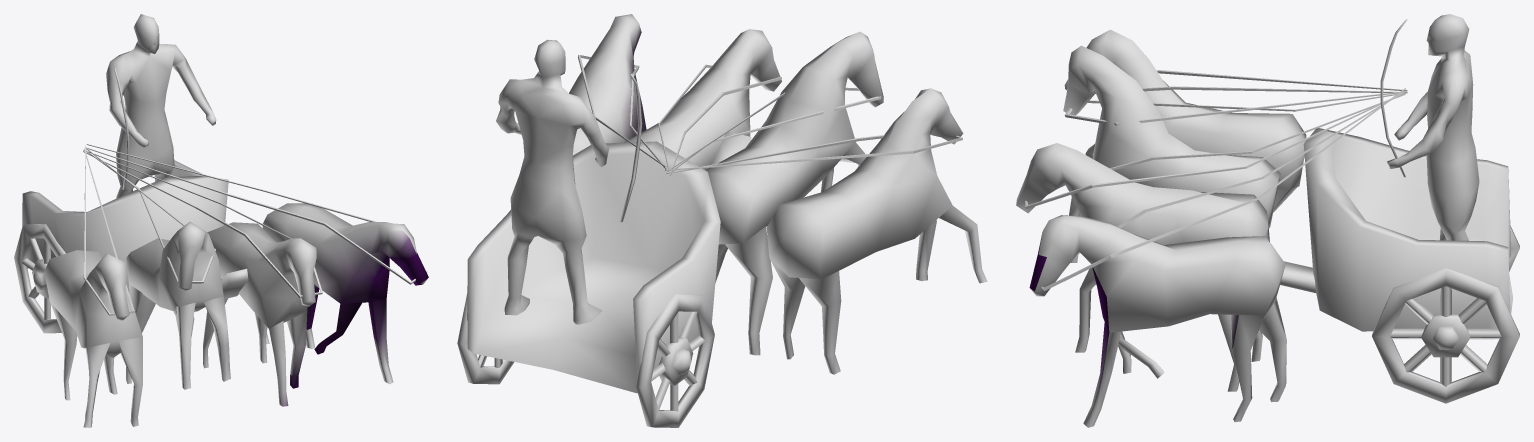
File: mausoleum_chariot_gold.dae
The picture shows the model from 3 angles, left to right: view 1: azimuth 30°, elevation 25°; view 2: azimuth 150°, elevation 25°; view 3: azimuth 270°, elevation 25°; orthographic projection. The views are drawn at different scales.
Parts seen in each view (by area): view 1: mace_mausoleum_chariot_gold; view 2: mace_mausoleum_chariot_gold; view 3: mace_mausoleum_chariot_gold.
Part boxes in pixels (x1,y1,x2,y2): mace_mausoleum_chariot_gold: (14, 14, 428, 427); mace_mausoleum_chariot_gold: (457, 14, 987, 427); mace_mausoleum_chariot_gold: (1016, 14, 1519, 427).
Size of the model in its own units: 5.82 by 6.28 by 4.97.
